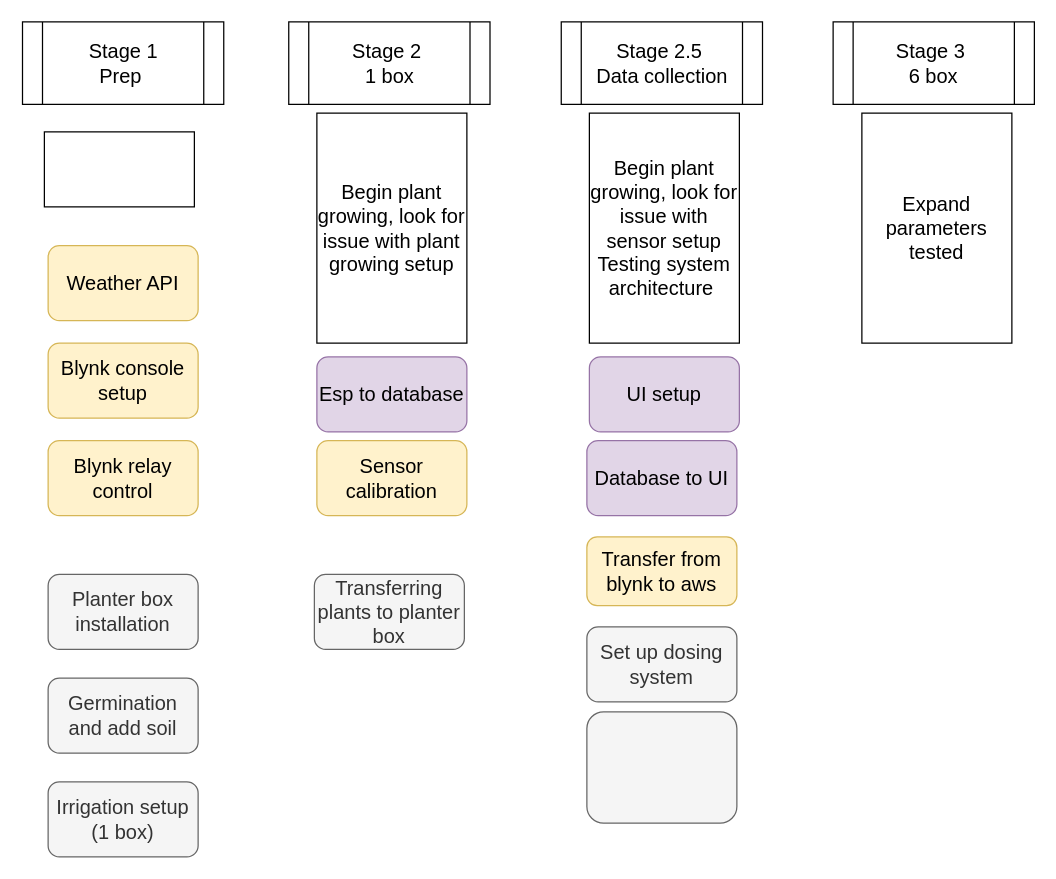
The diagram is 1056 pixels wide and 879 high, and some of its shapes have lost their labels. Each missing label, with the centre of its shape:
"Prep" goes at point 118,169.
"Prepare irrigation system (6box)" goes at point 661,767.
